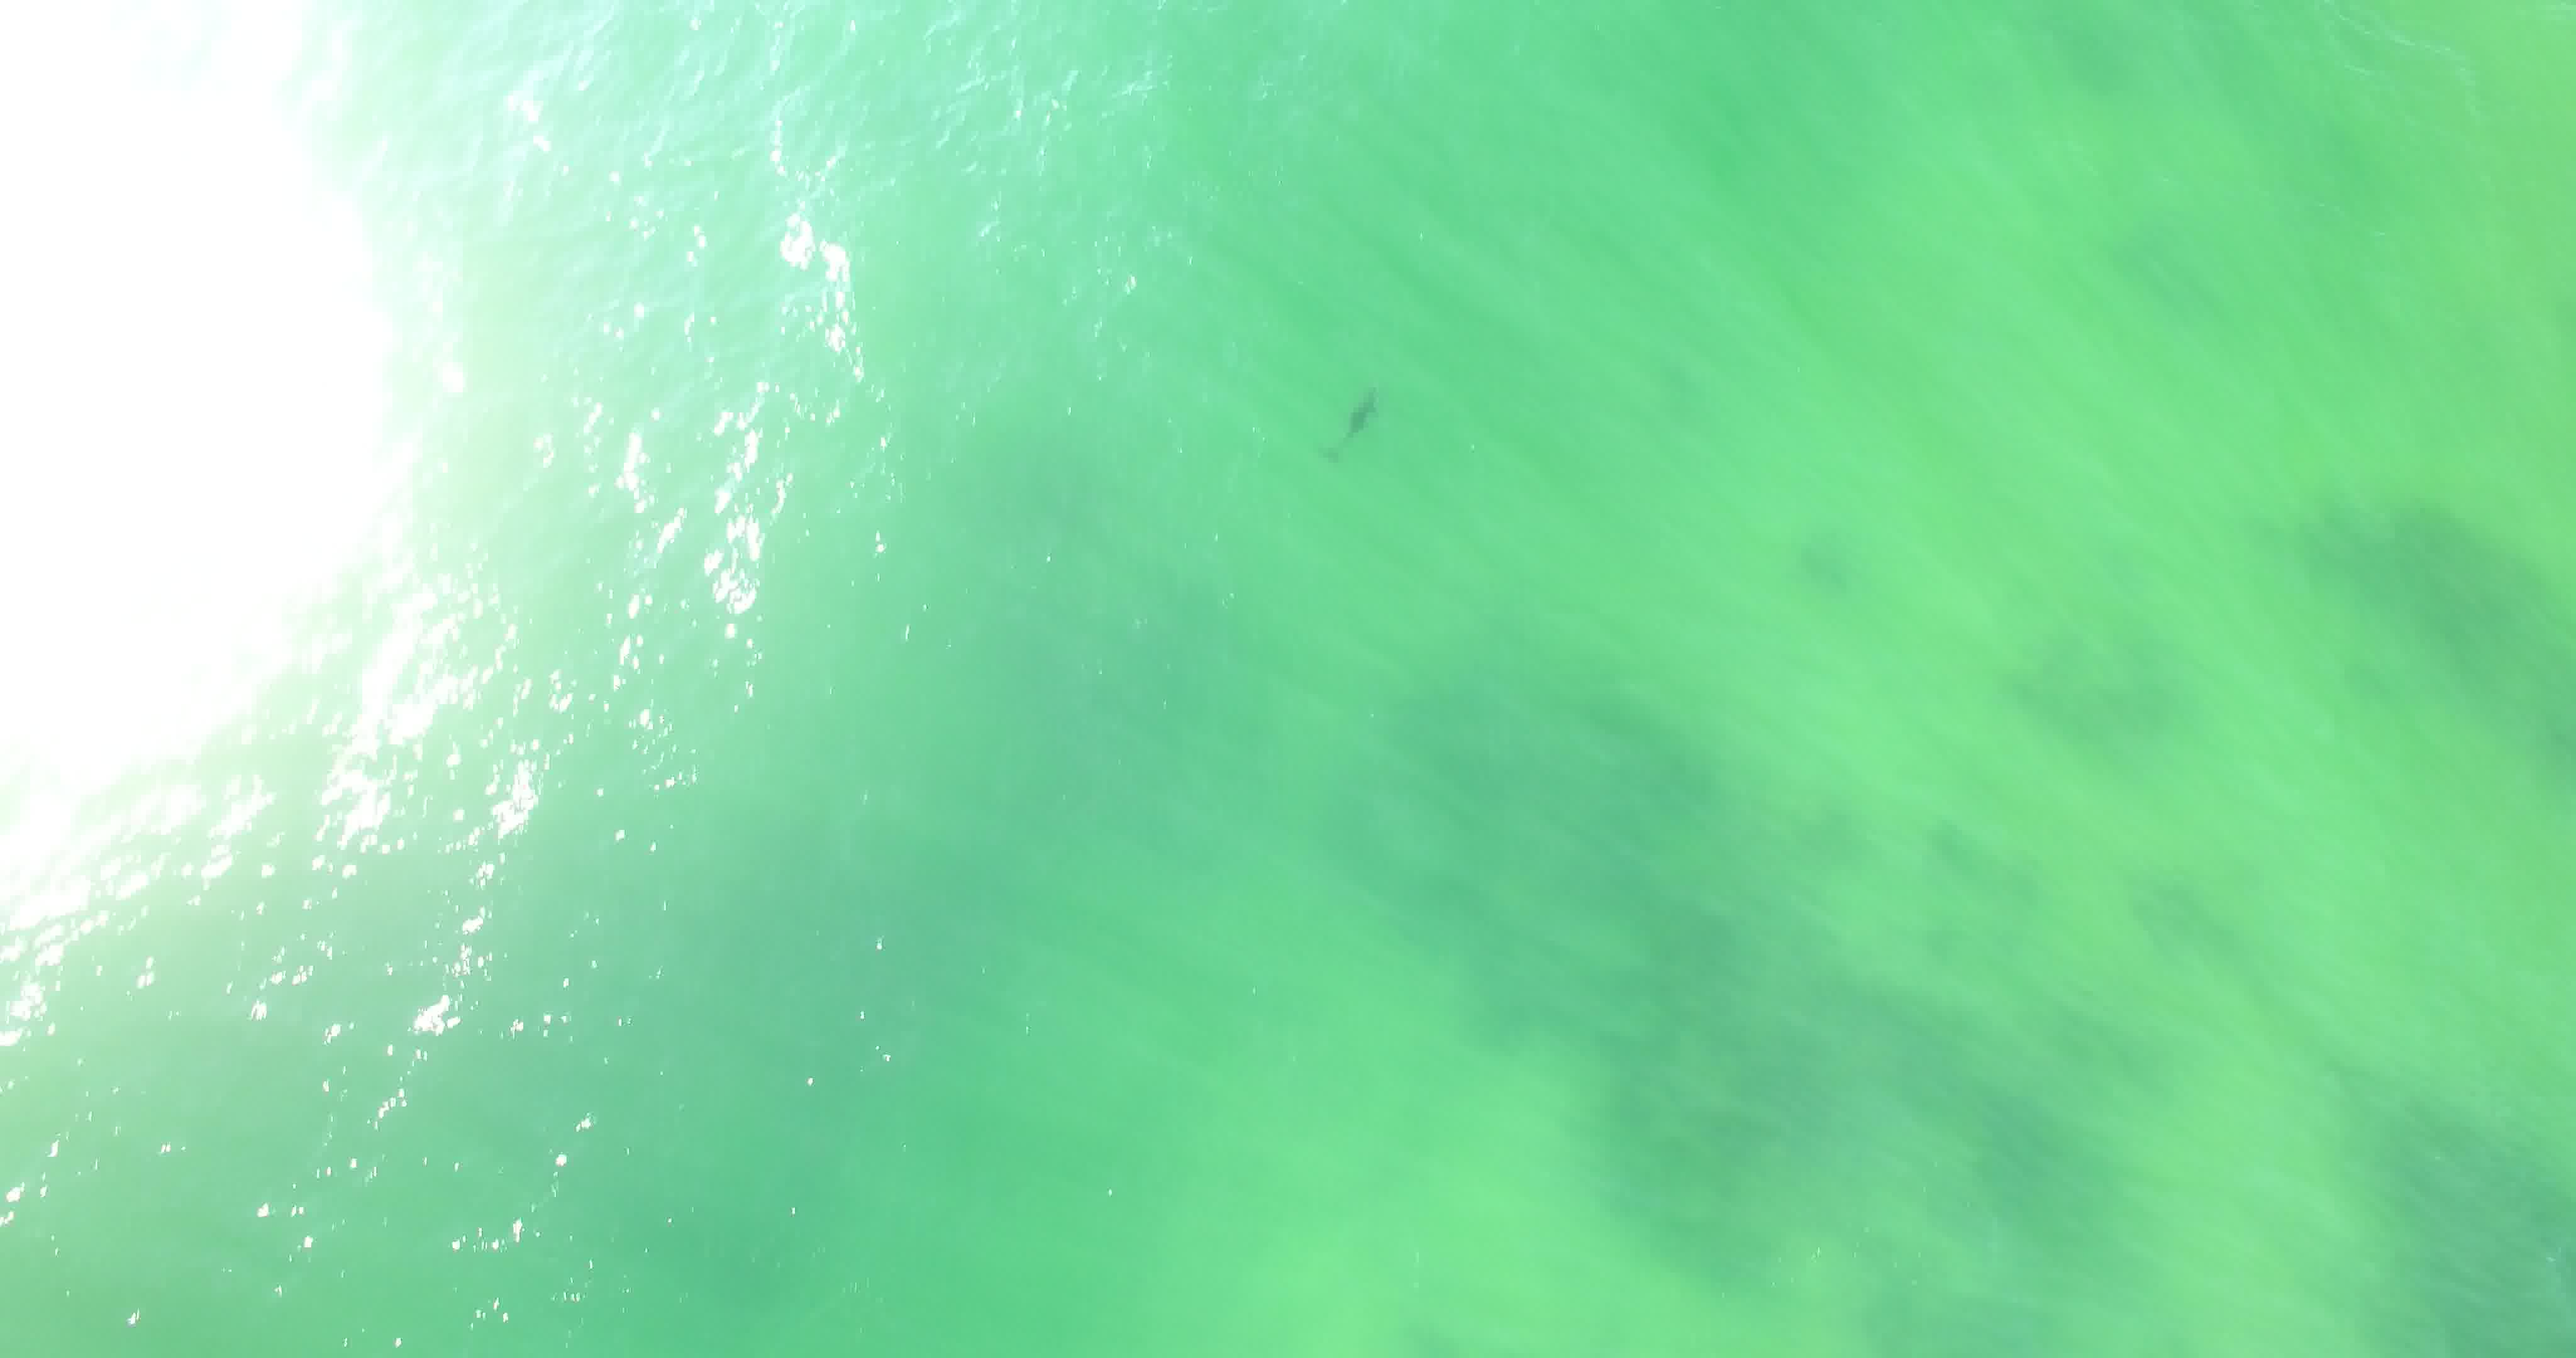dolphin: (1300, 339, 1395, 480)
